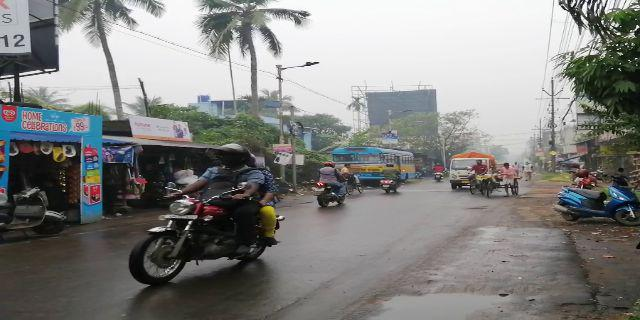Motorbike: (125, 132, 283, 282), (556, 180, 640, 227), (311, 158, 349, 209)
